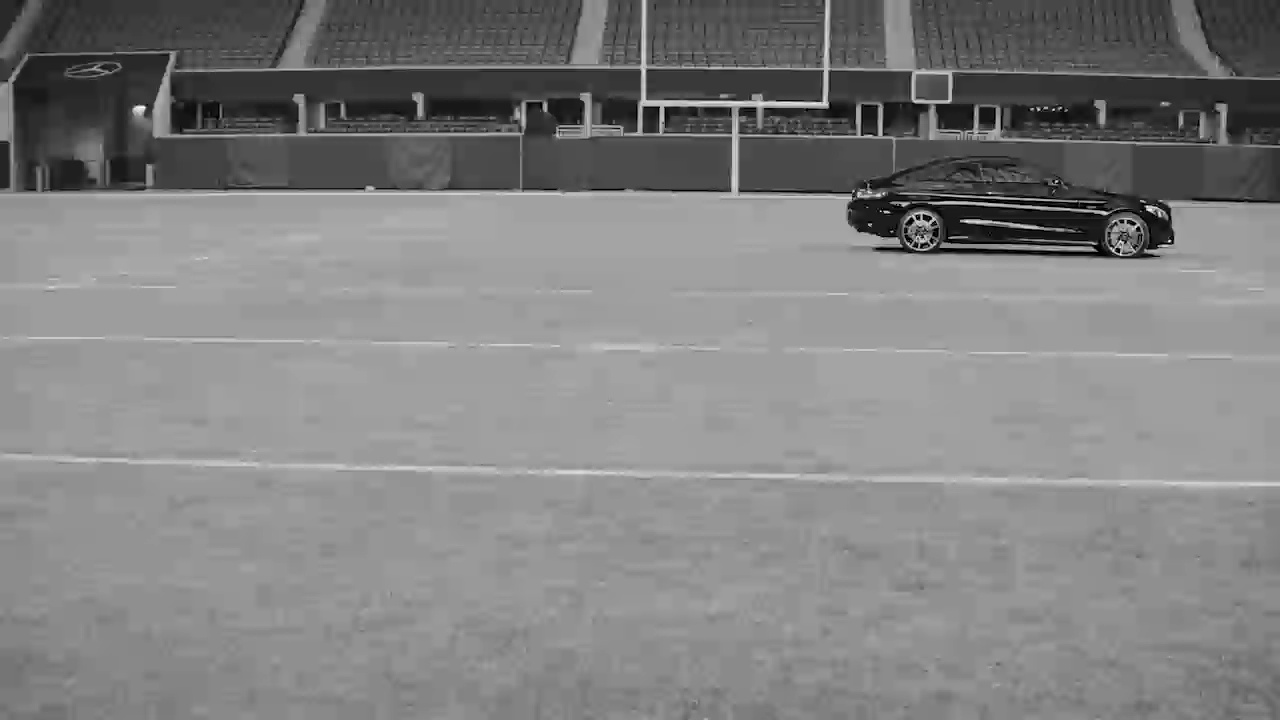car: (852, 156, 1177, 259)
